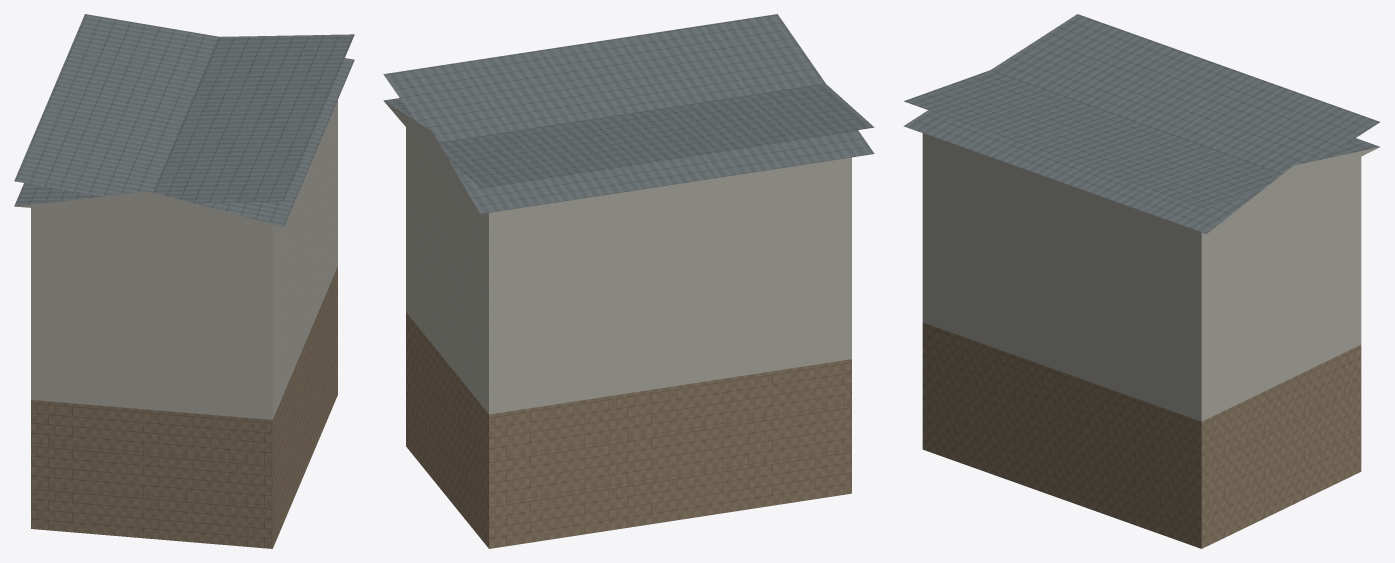
File: bld_c20_45_395.gltf
The picture shows the model from 3 angles, left to right: view 1: azimuth 30°, elevation 25°; view 2: azimuth 150°, elevation 25°; view 3: azimuth 270°, elevation 25°; orthographic projection. The views are drawn at different scales.
Visible parts, largest first — view 1: bld_c20_45_395; view 2: bld_c20_45_395; view 3: bld_c20_45_395.
Boxes of the visible parts, box(x1,y1,x2,y2) form: bld_c20_45_395: box(14, 14, 354, 548); bld_c20_45_395: box(383, 14, 874, 548); bld_c20_45_395: box(903, 14, 1379, 548).
Size of the model in its own units: 16.8 by 14 by 17.35.
4 materials, 4 textured.
